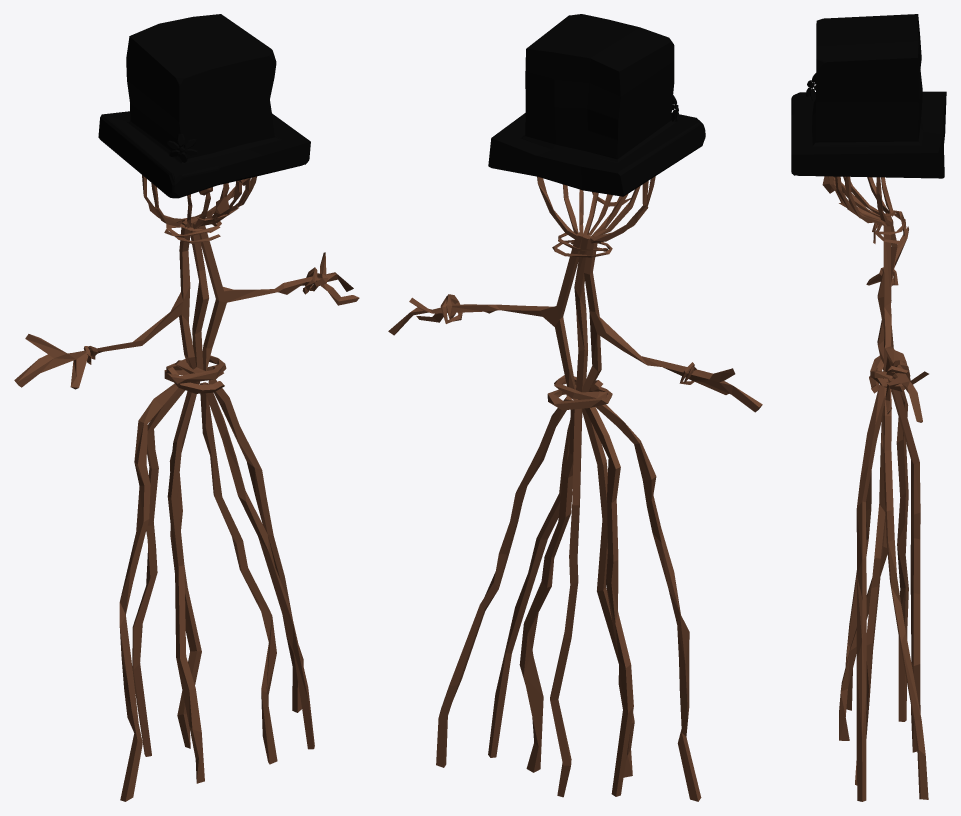
Rendered from Scarecrow_3.fbx.
The picture shows the model from 3 angles, left to right: view 1: azimuth 30°, elevation 25°; view 2: azimuth 150°, elevation 25°; view 3: azimuth 270°, elevation 25°; orthographic projection. The views are drawn at different scales.
Parts seen in each view (by area): view 1: Scarecrow_3; view 2: Scarecrow_3; view 3: Scarecrow_3.
Boxes of the visible parts, x1=… form: Scarecrow_3: x1=14, y1=14, x2=359, y2=801; Scarecrow_3: x1=388, y1=14, x2=762, y2=801; Scarecrow_3: x1=791, y1=14, x2=946, y2=801.
Size of the model in its own units: 22.01 by 44.36 by 8.62.
